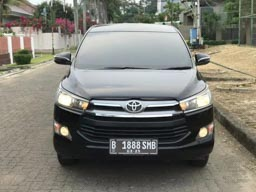plat: (112, 140, 157, 149)
